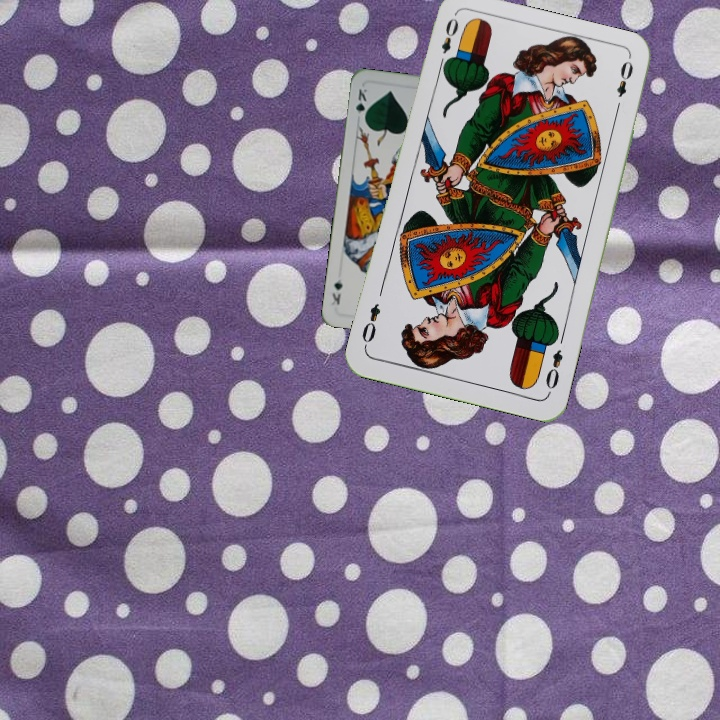EO: (435, 14, 461, 71), (541, 345, 566, 392)
GK: (352, 85, 370, 124)
